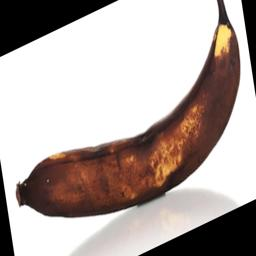Banana Rotten: (5, 12, 251, 238)
